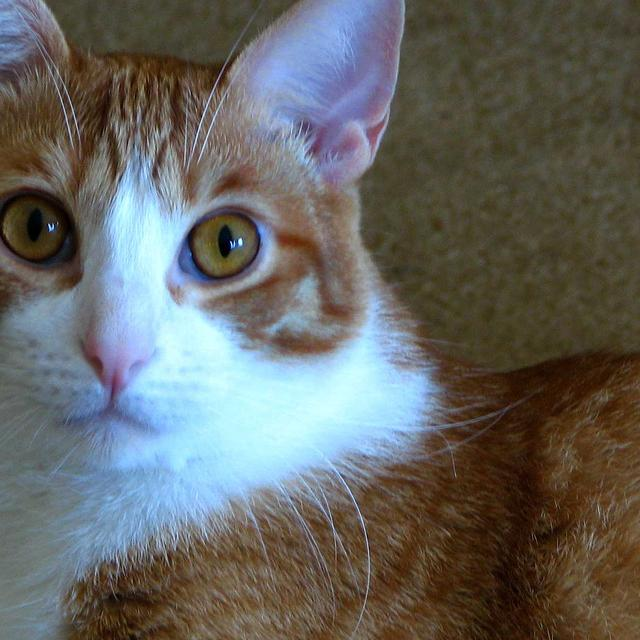animals: (0, 0, 391, 385)
